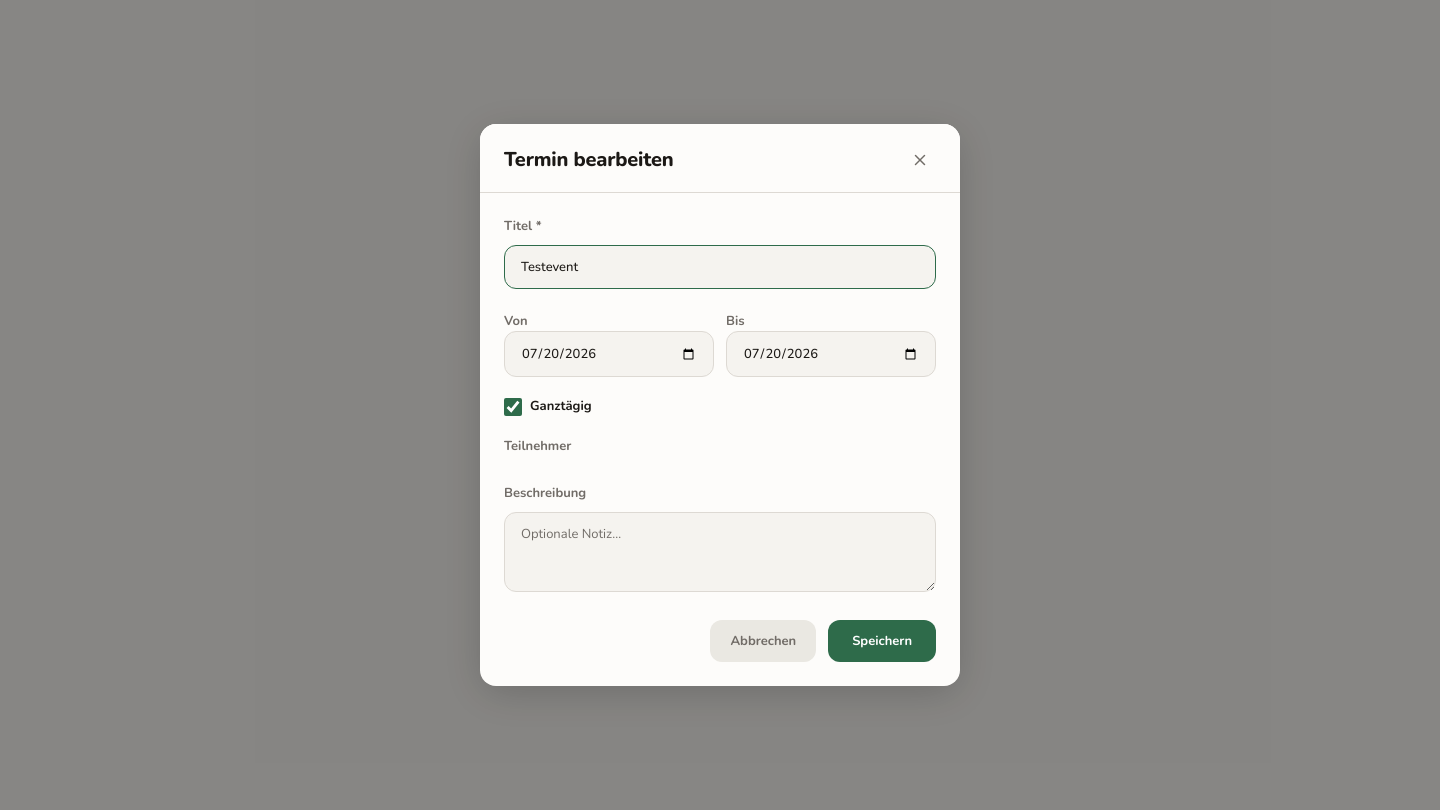
Scenario: EventFormModal — Mehrtägig › zieht Bis automatisch nach, wenn Von auf ein späteres Datum als Bis verschoben wird
Type "2026-07-25" into the date field labelled "Von" at (609, 354), box [504,331,714,377]
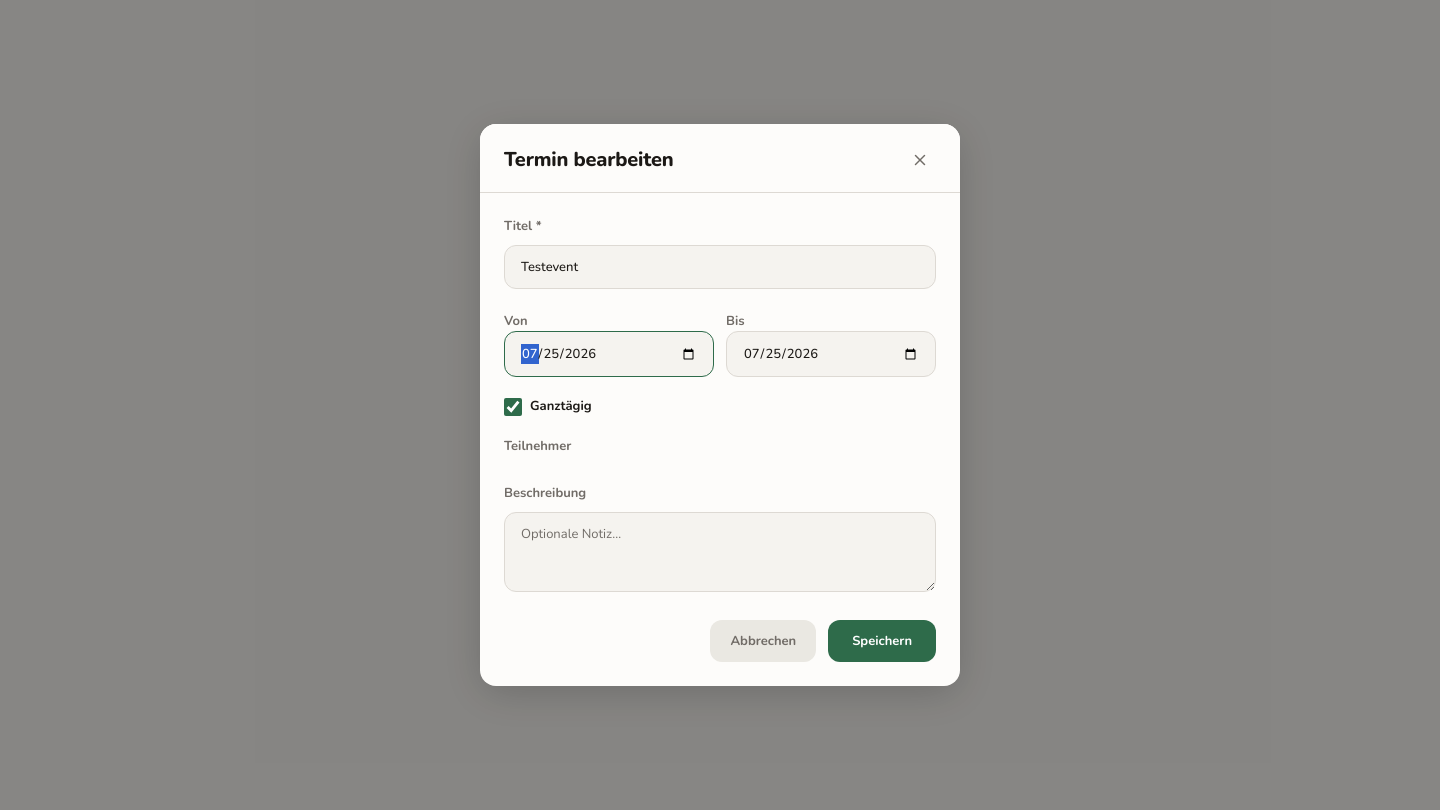
Check: the button "Speichern" is enabled, box [828,620,936,662]
Check: the date field labelled "Bis" holds "2026-07-25", box [726,331,936,377]
